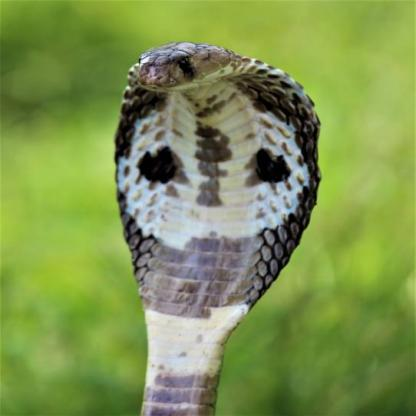Snake: (111, 38, 326, 416)
